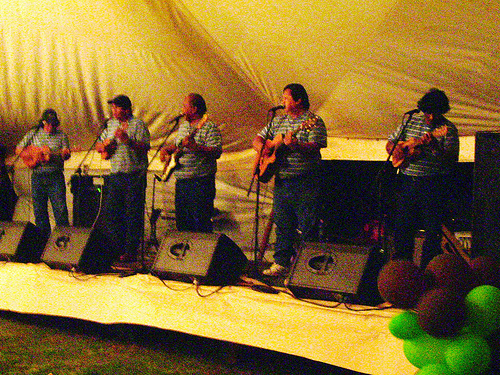guitar: (254, 111, 322, 182), (389, 122, 449, 170)
